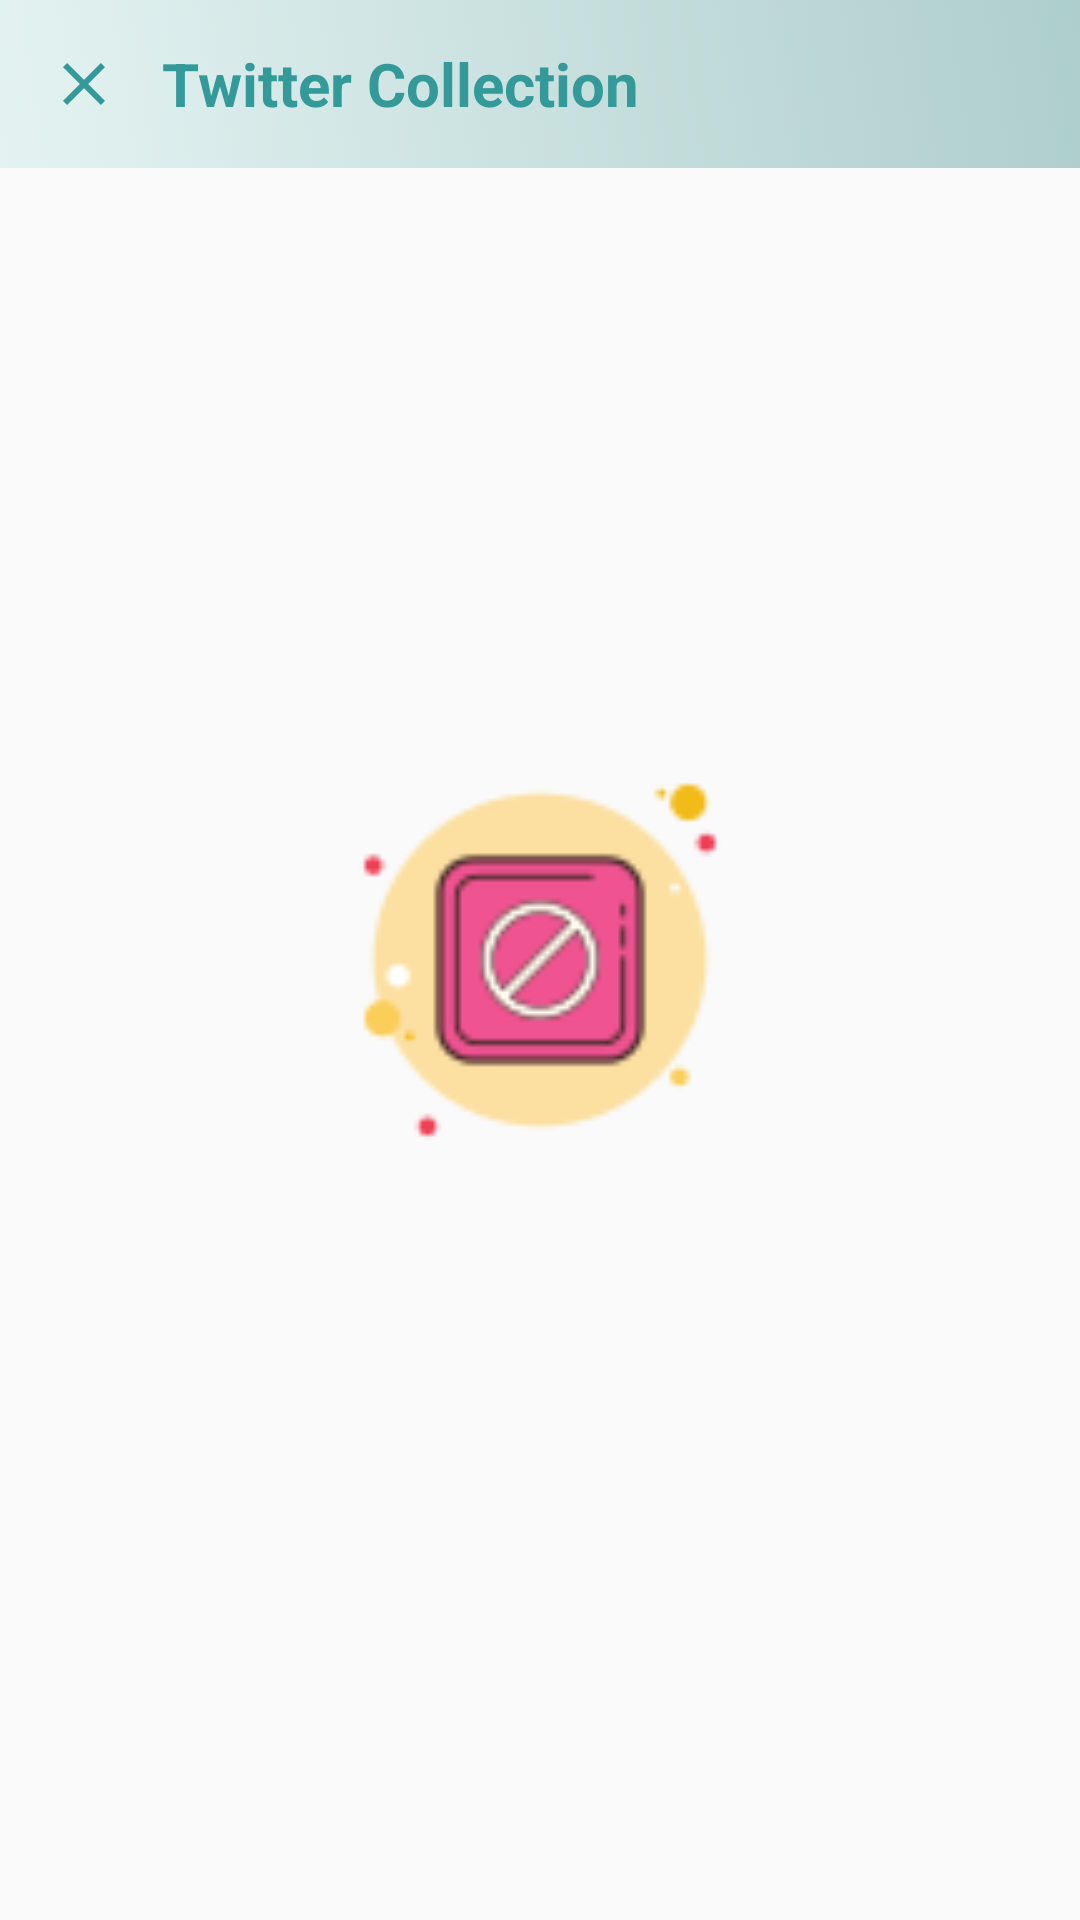

Icon click points for this 1080×1920 phone screenshot, format point (x, y):
close: point (84, 84)
unvailable: point (540, 960)
